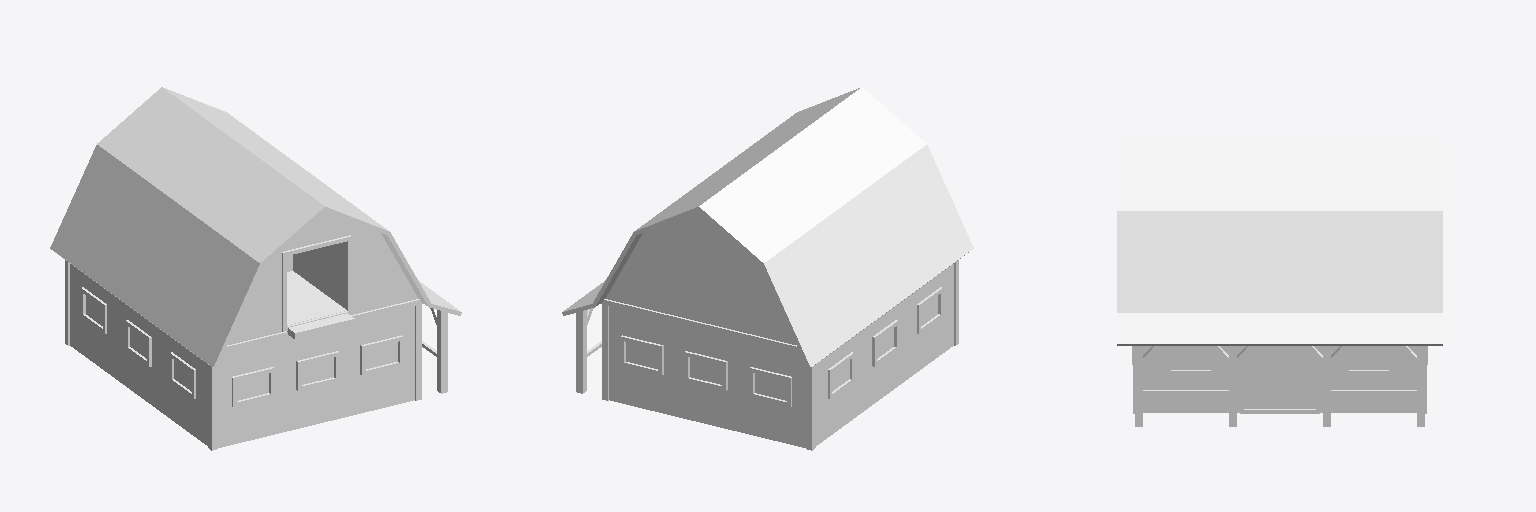
Rendered from BG_Barn.obj.
3 renders of one model, left to right at view 1: azimuth 30°, elevation 25°; view 2: azimuth 150°, elevation 25°; view 3: azimuth 270°, elevation 25°, orthographic.
Visible parts, largest first — view 1: Barn_02; view 2: Barn_02; view 3: Barn_02.
Part boxes in pixels (left/top/right/bottom): Barn_02: left=50, top=87, right=461, bottom=450; Barn_02: left=562, top=87, right=973, bottom=450; Barn_02: left=1117, top=138, right=1442, bottom=426.
Bounding box in the file's own units: 86.38 × 74.55 × 98.23.